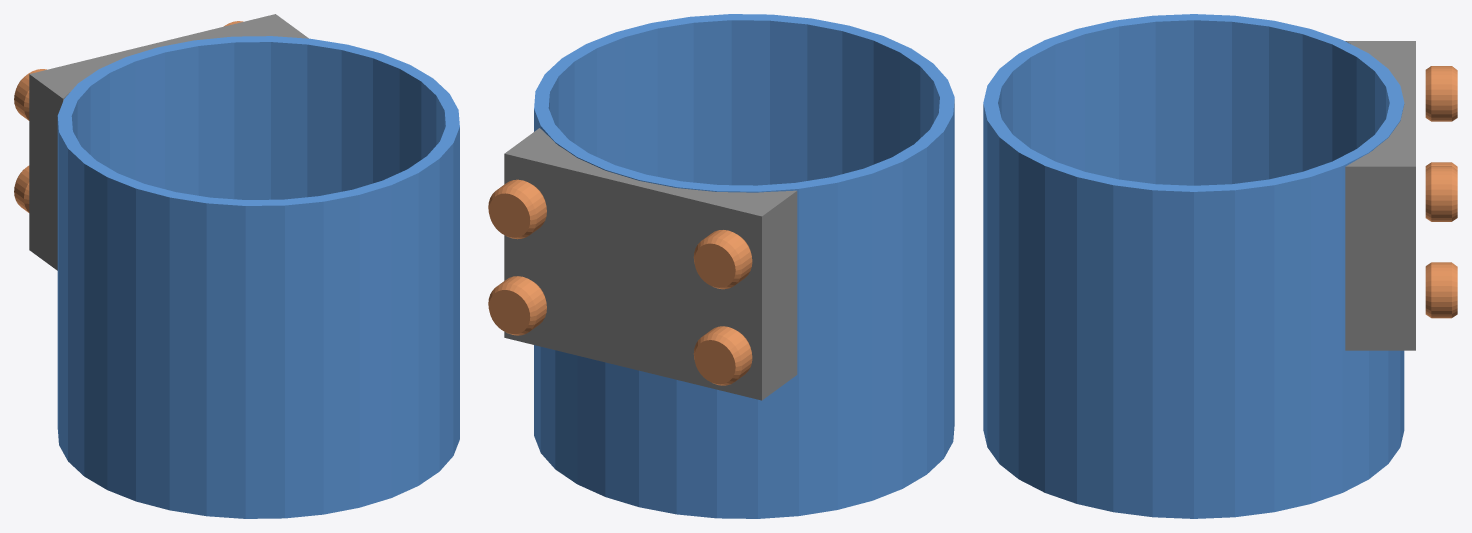
File: lowend.glb
The picture shows the model from 3 angles, left to right: view 1: azimuth 30°, elevation 25°; view 2: azimuth 150°, elevation 25°; view 3: azimuth 270°, elevation 25°; orthographic projection. The views are drawn at different scales.
Visible parts, largest first — view 1: LowEnd; view 2: LowEnd; view 3: LowEnd.
Part boxes in pixels (x1,y1,x2,y2): LowEnd: [14, 14, 459, 518]; LowEnd: [488, 14, 954, 518]; LowEnd: [983, 14, 1457, 518].
Bounding box in the file's own units: 0.2 × 0.1713 × 0.2253.
